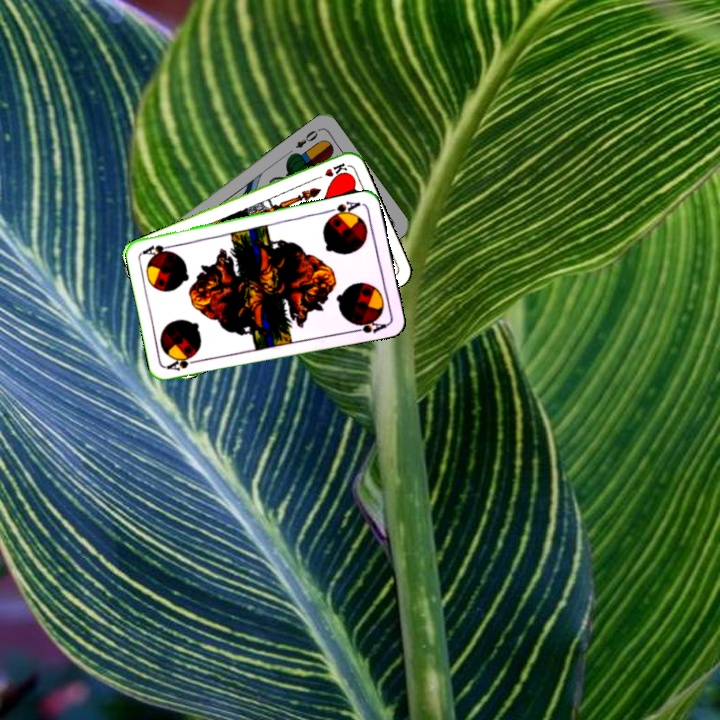EO: (291, 125, 323, 151)
HK: (310, 159, 350, 183)
SA: (324, 197, 363, 221), (163, 353, 204, 373)
